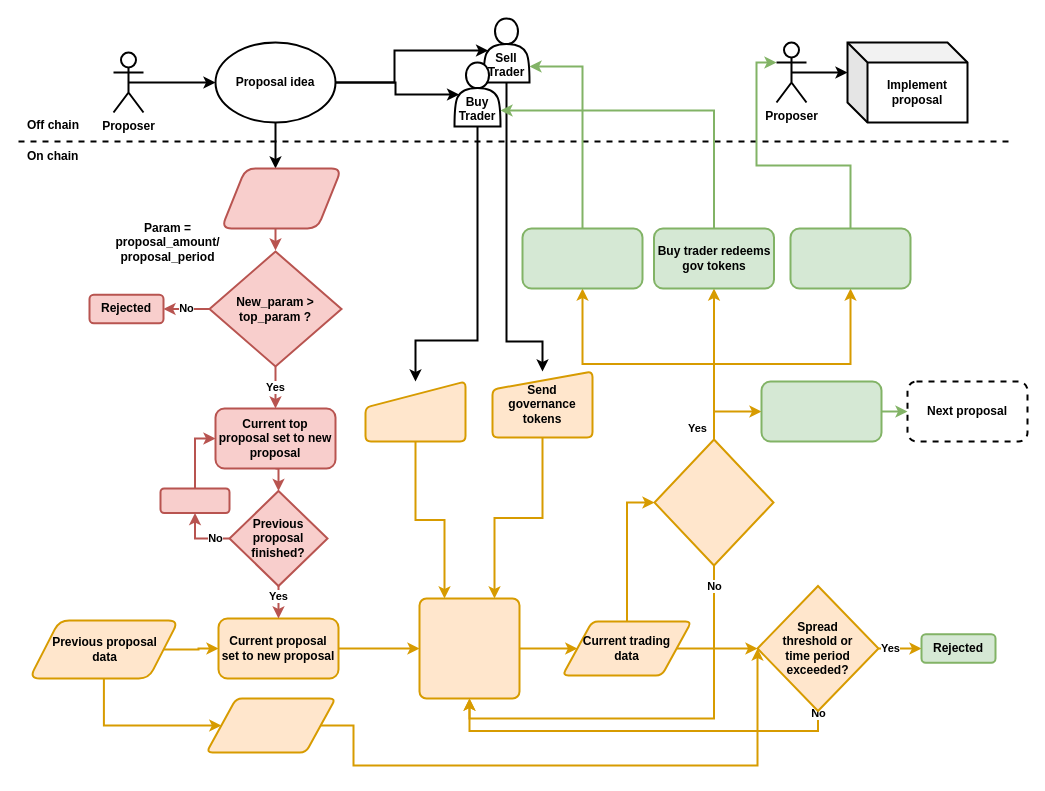
This 1045x791 diagram has some shape labels left out. The centre of each missing label's shape, as x and y in pixels:
"Accept_price > 1.0" belongs at pixel 713 502.
"Dutch auction proposal trading" belongs at pixel 469 648.
"Previous proposal becomes current proposal." belongs at pixel 821 411.
"Previous trading data" belongs at pixel 270 725.
"Proposal amount paid to proposer." belongs at pixel 850 258.
"Proposal data" belongs at pixel 281 198.
"Sell trader redeems dai" belongs at pixel 582 258.
"Send dai" belongs at pixel 415 411.
"Wait" belongs at pixel 194 500.
